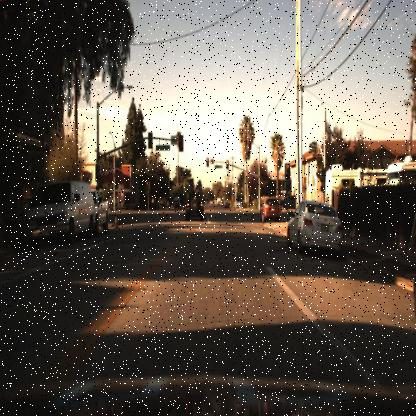car: (25, 177, 96, 241), (286, 198, 345, 252), (174, 182, 204, 220), (90, 188, 114, 234), (260, 194, 286, 223), (183, 188, 203, 221), (262, 195, 283, 226), (170, 193, 182, 216)
trafficLight-Red: (282, 159, 293, 187), (282, 158, 293, 186), (257, 175, 265, 189), (143, 178, 150, 192), (224, 158, 230, 171), (205, 155, 210, 168)
